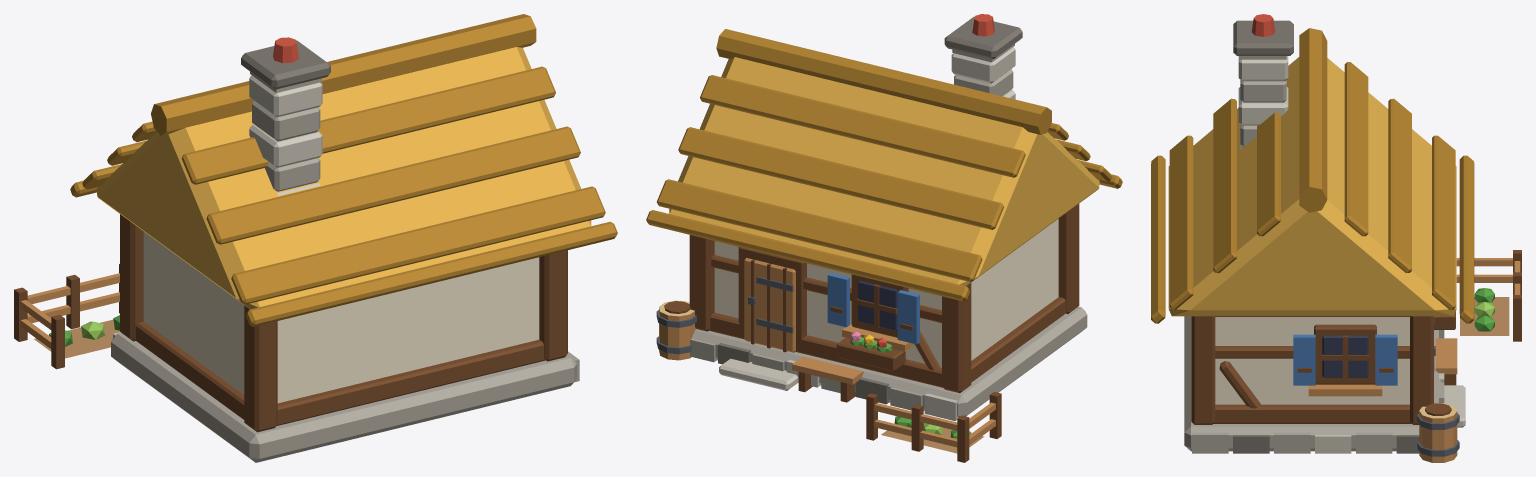
The model's file is house_l1.fbx.
3 renders of one model, left to right at view 1: azimuth 30°, elevation 25°; view 2: azimuth 150°, elevation 25°; view 3: azimuth 270°, elevation 25°, orthographic. The views are drawn at different scales.
Parts seen in each view (by area): view 1: house_l1; view 2: house_l1; view 3: house_l1.
Boxes of the visible parts, <box> form: house_l1: <box>14,14,617,462</box>; house_l1: <box>646,14,1122,462</box>; house_l1: <box>1151,14,1521,462</box>.
Size of the model in its own units: 0.8881 by 0.7974 by 0.8146.
